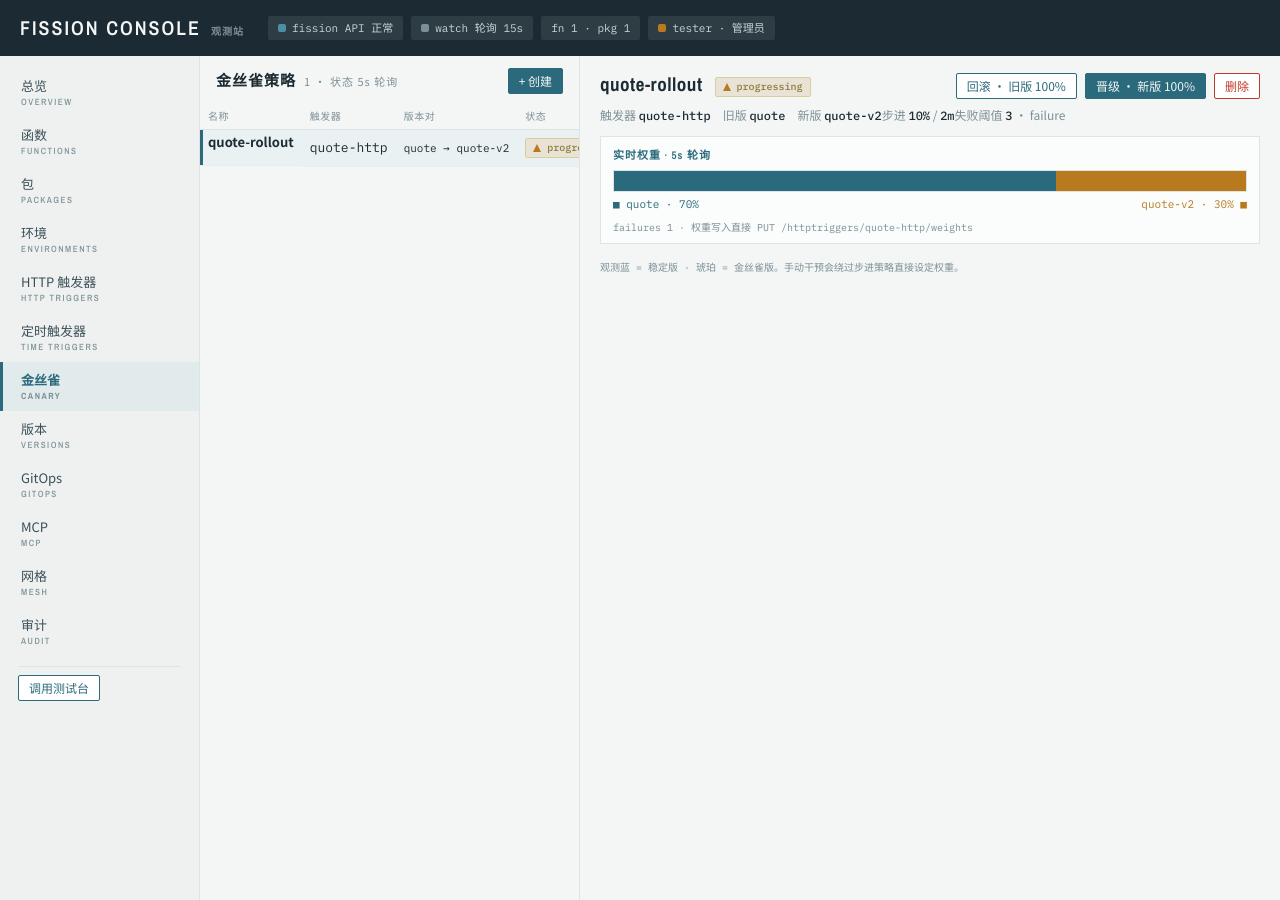
it: J5 · 金丝雀旅程 › case4 手动回滚：详情点「回滚 · 旧版 100%」→ PUT weights {quote:100,quote-v2:0} → toast
// When：点详情头部「回滚 · 旧版 100%」（quote-rollout 默认选中，名称在列表行与详情 h2 各出现一次）
Click the button "回滚 · 旧版 100%".
click(1016, 86)  # box [956,73,1077,99]
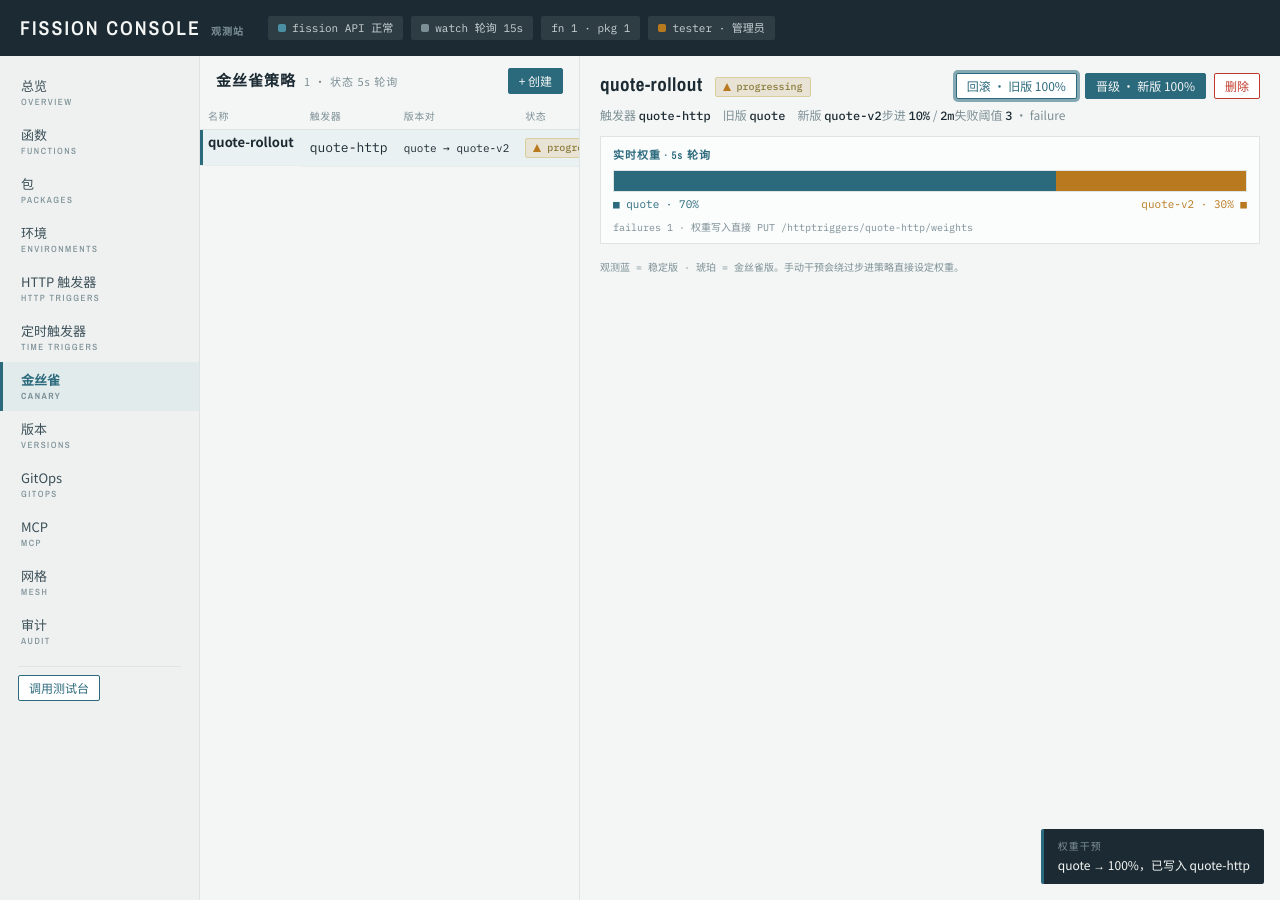
Expected: the text "权重干预 quote → 100%，已写入 quote-http" is shown, [1041,829,1264,884]
